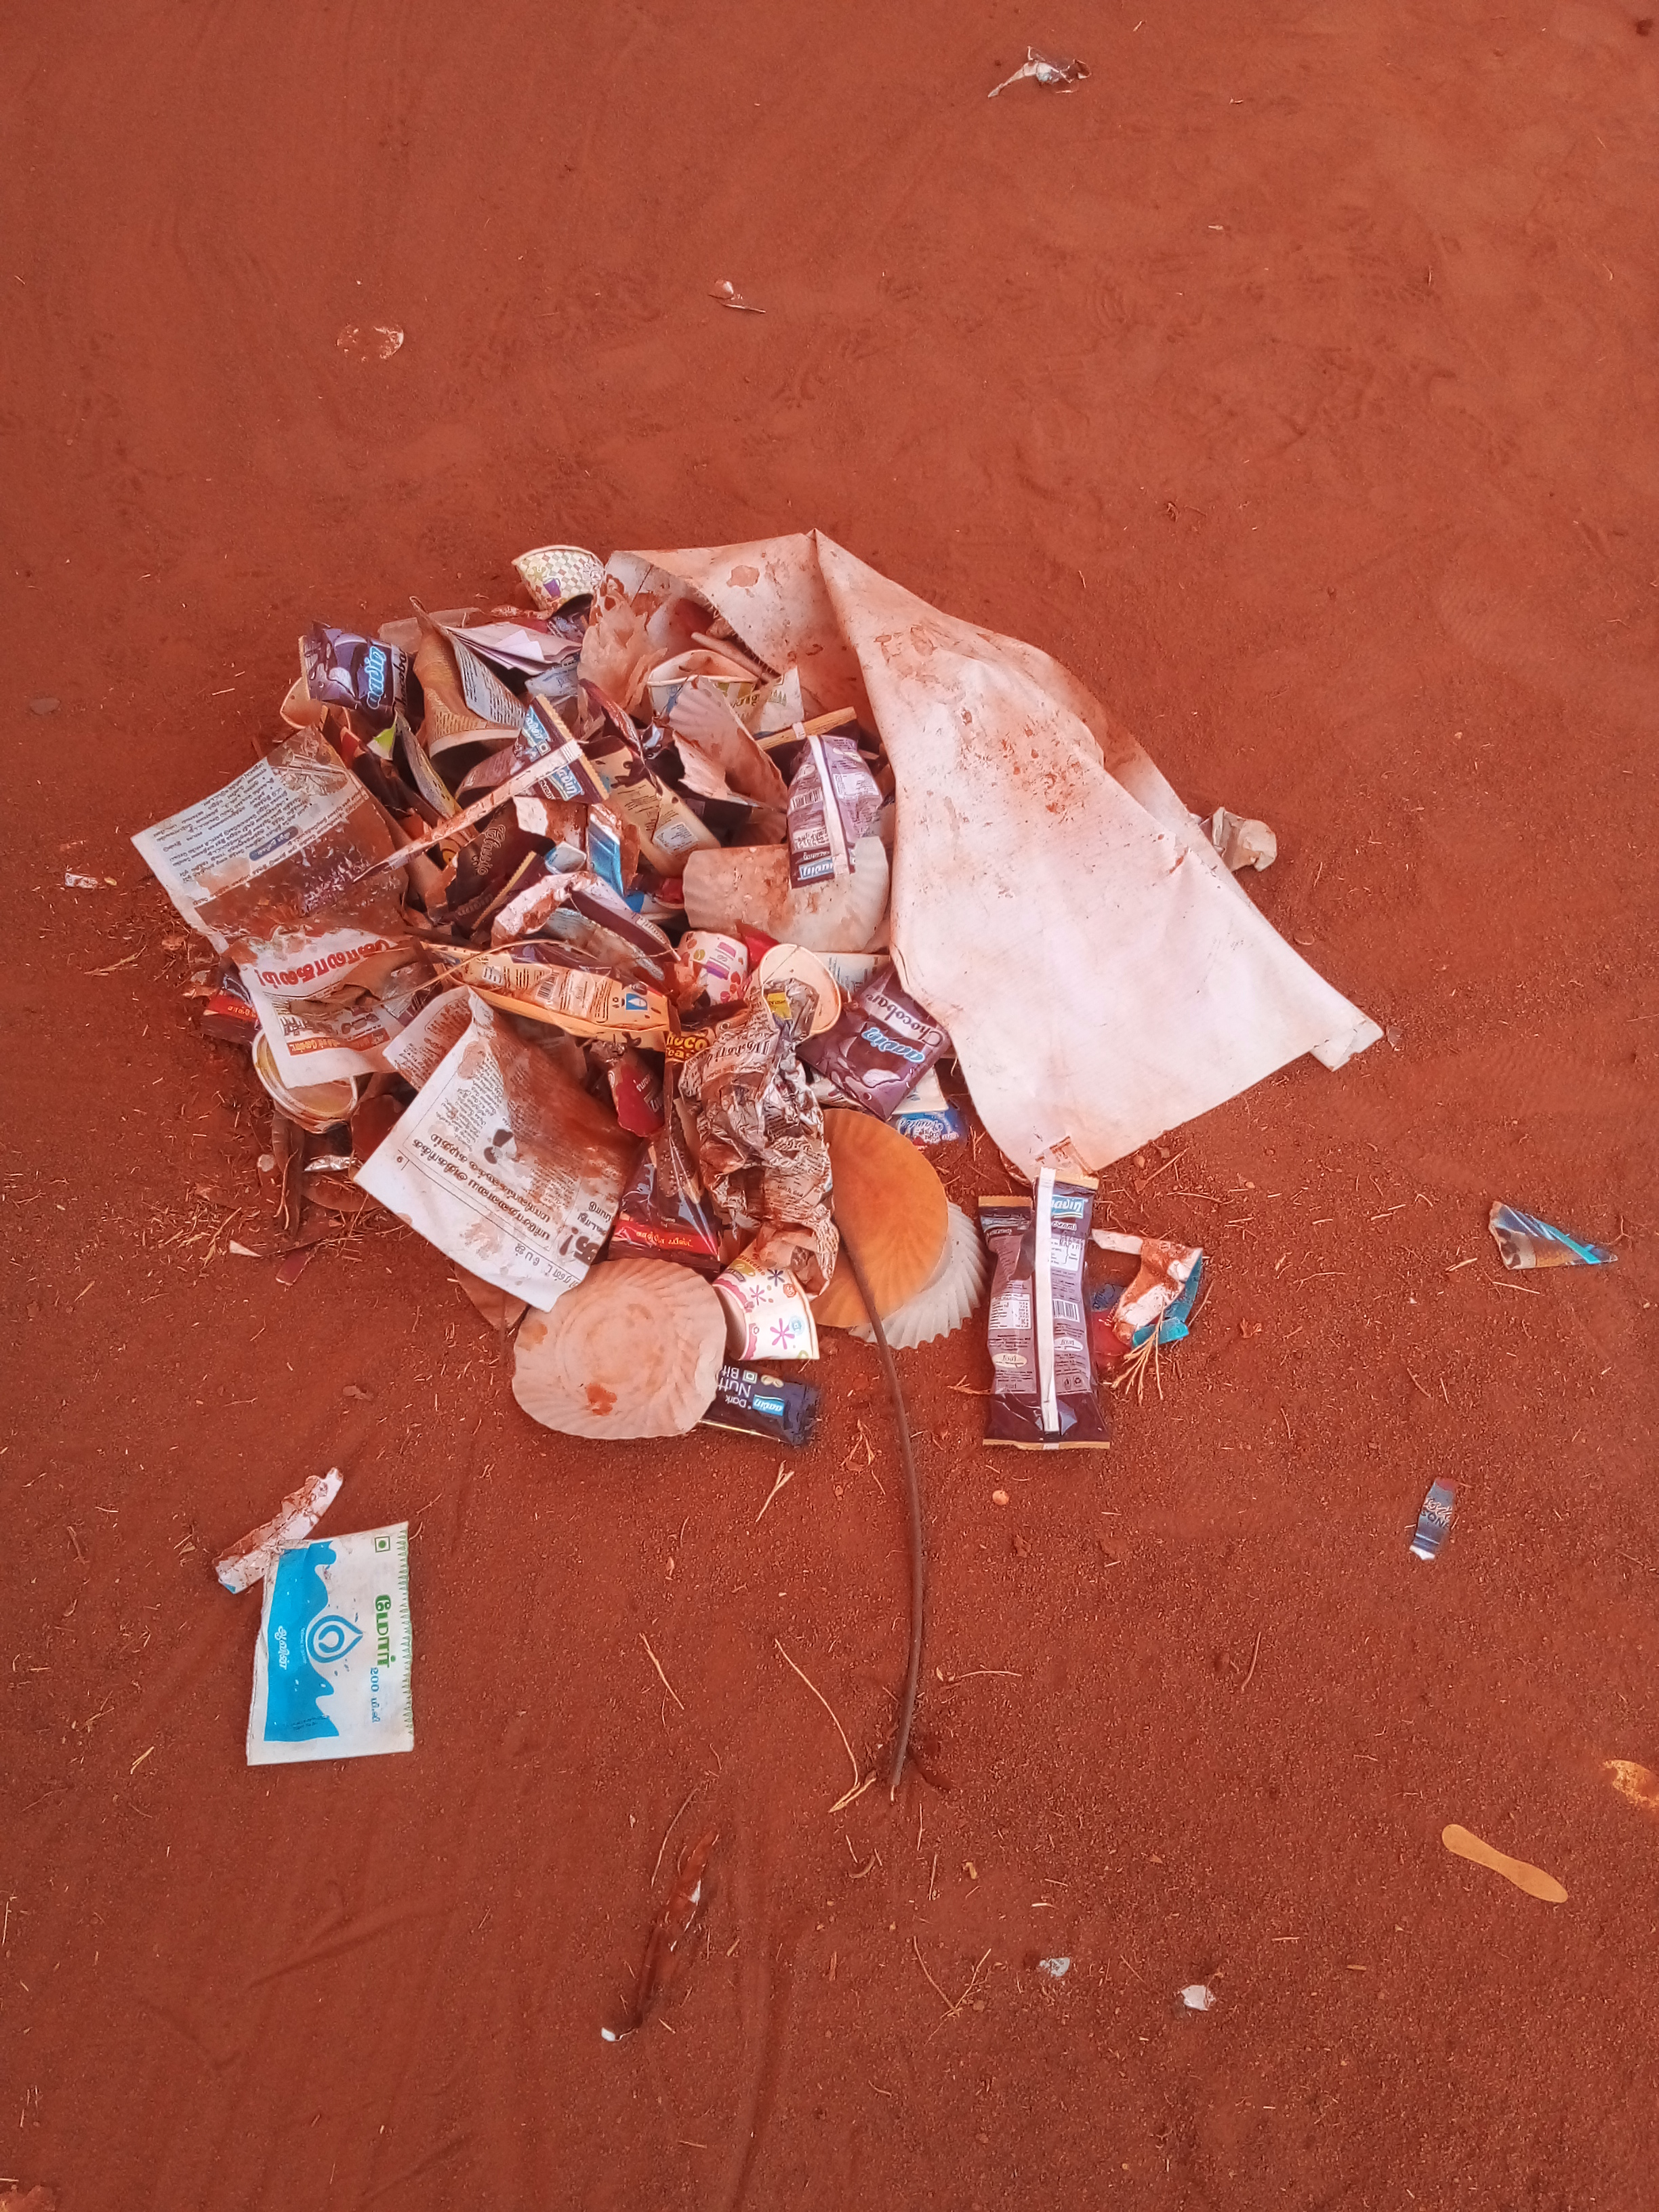pbag: (223, 1510, 467, 1764), (964, 1193, 1101, 1458)
